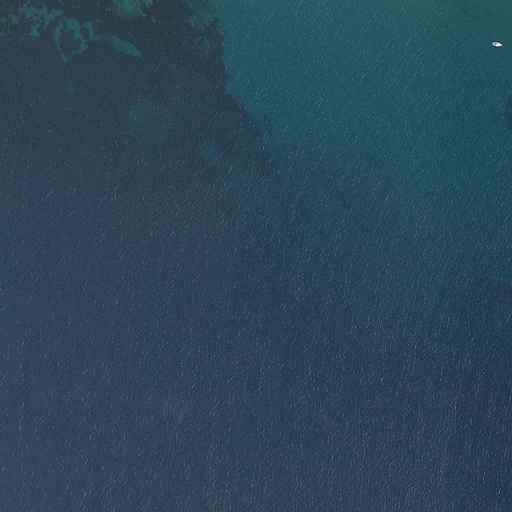ship: (491, 40, 503, 49)
